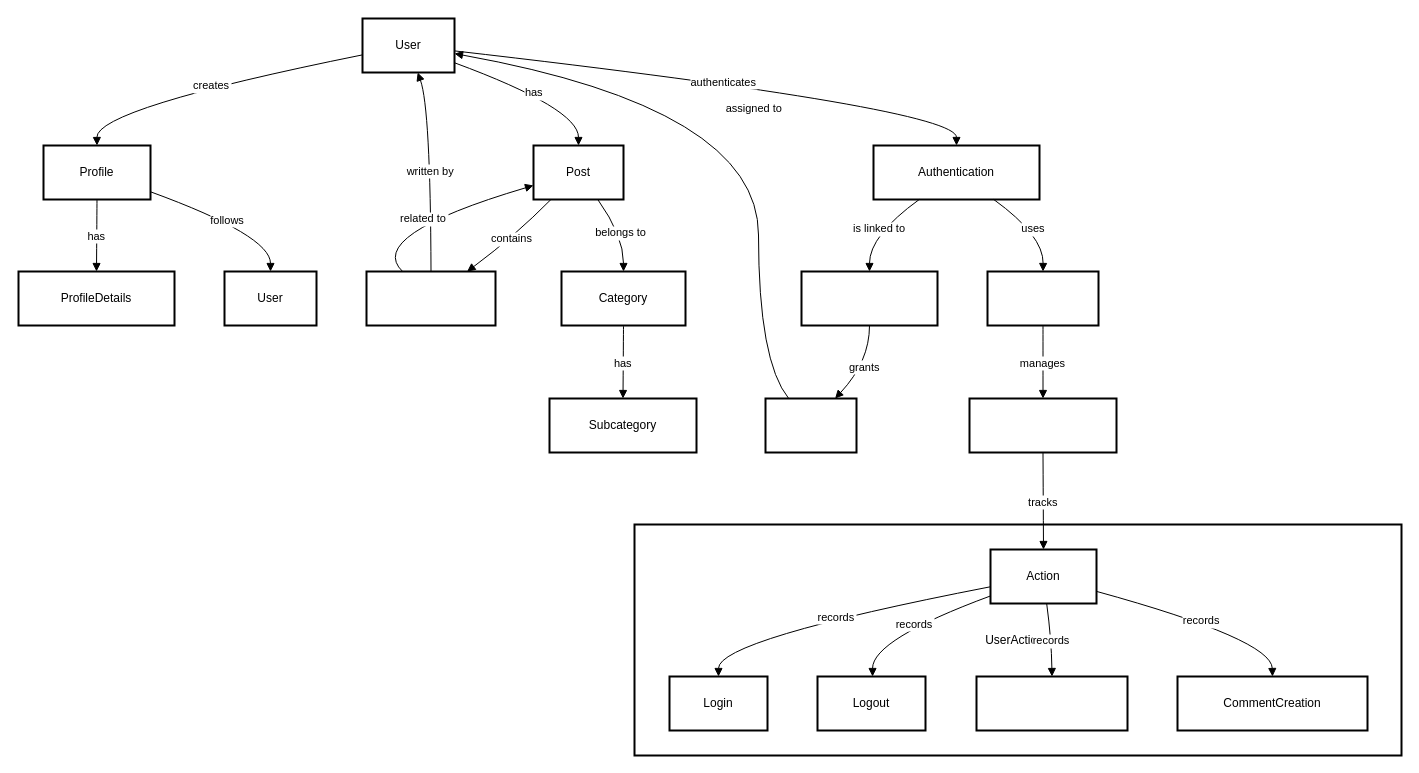
The diagram is 1419 pixels wide and 773 high, and some of its shapes have lost their labels. Here are the shapes that lost their labels. From the top down, the centre of each, then its label:
At point (430, 298): "Comment".
At point (869, 298): "Permission".
At point (1042, 298): "Session".
At point (810, 425): "Role".
At point (1042, 425): "UserActivity".
At point (1051, 703): "PostCreation".
